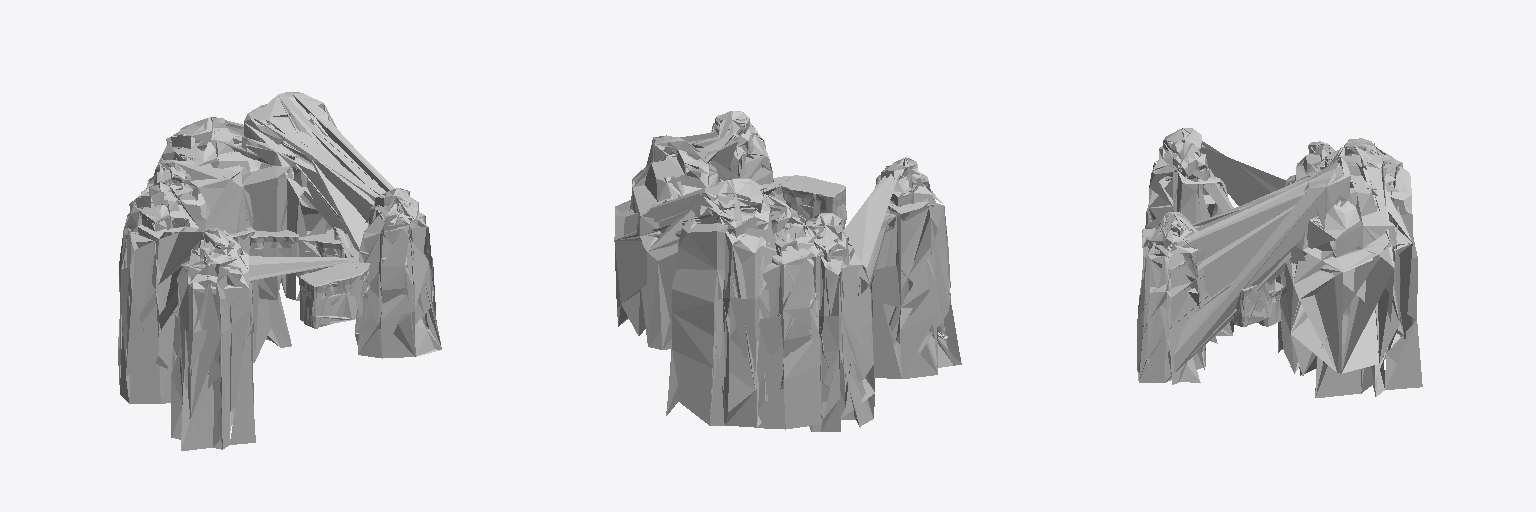
Rendered from cellQuarry_DonutHole_Proxy-sharedassets3.assets-604.obj.
3 views of the same model, side by side, from view 1: azimuth 30°, elevation 25°; view 2: azimuth 150°, elevation 25°; view 3: azimuth 270°, elevation 25° (orthographic).
Visible parts, largest first — view 1: cellQuarry_DonutHole_Proxy_0, cellQuarry_DonutHole_Proxy_1, cellQuarry_DonutHole_Proxy_3, cellQuarry_DonutHole_Proxy_2; view 2: cellQuarry_DonutHole_Proxy_0, cellQuarry_DonutHole_Proxy_1; view 3: cellQuarry_DonutHole_Proxy_0, cellQuarry_DonutHole_Proxy_3, cellQuarry_DonutHole_Proxy_1.
Boxes of the visible parts, x1,y1,x2,y2 form: cellQuarry_DonutHole_Proxy_0: [118, 92, 441, 450]; cellQuarry_DonutHole_Proxy_1: [299, 228, 369, 328]; cellQuarry_DonutHole_Proxy_3: [229, 227, 369, 294]; cellQuarry_DonutHole_Proxy_2: [246, 188, 417, 320]; cellQuarry_DonutHole_Proxy_0: [614, 111, 961, 431]; cellQuarry_DonutHole_Proxy_1: [761, 175, 846, 229]; cellQuarry_DonutHole_Proxy_0: [1137, 128, 1422, 397]; cellQuarry_DonutHole_Proxy_3: [1234, 281, 1281, 326]; cellQuarry_DonutHole_Proxy_1: [1142, 228, 1274, 326].
Bounding box in the file's own units: 166 × 150 × 153.